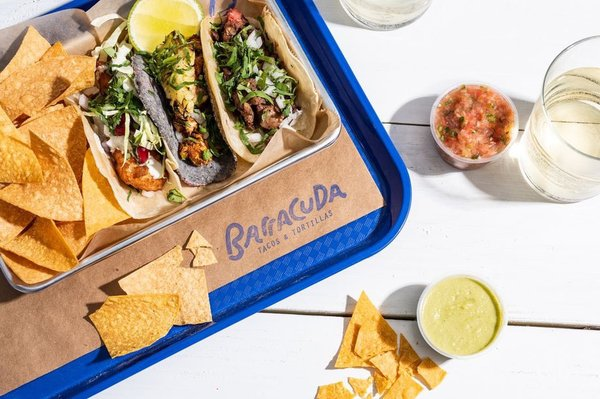soup: (0, 100, 88, 290), (0, 101, 87, 228), (0, 43, 96, 129)
sushi: (416, 274, 507, 359)
